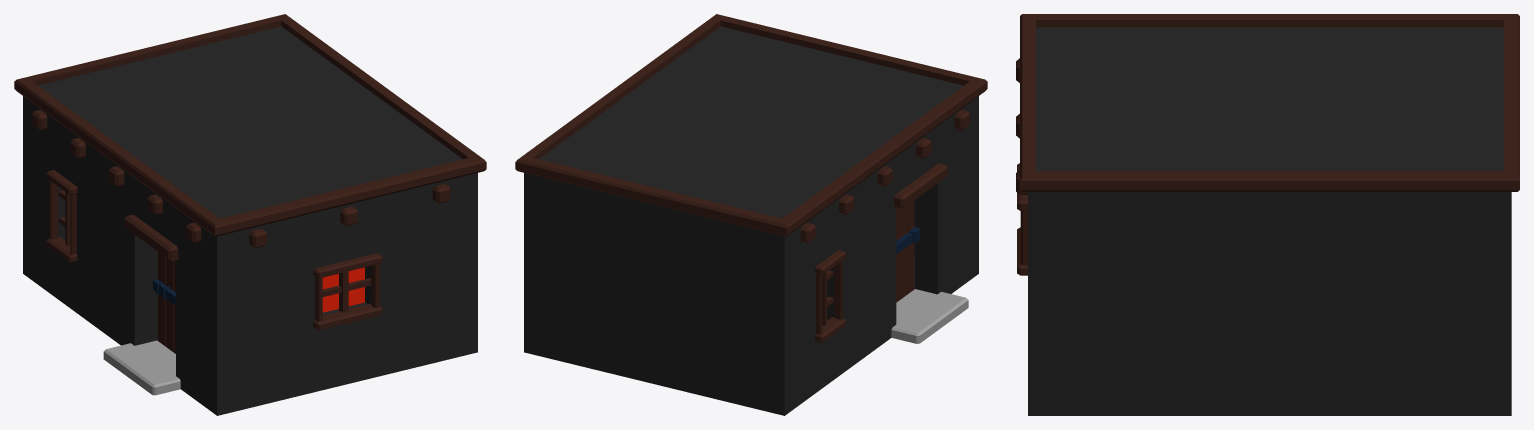
File: civilian_house_39_e.FBX
3 renders of one model, left to right at view 1: azimuth 30°, elevation 25°; view 2: azimuth 150°, elevation 25°; view 3: azimuth 270°, elevation 25°, orthographic. The views are drawn at different scales.
Visible parts, largest first — view 1: civilian_house_39_e; view 2: civilian_house_39_e; view 3: civilian_house_39_e.
Part boxes in pixels (<box>): civilian_house_39_e: <box>14,14,486,415</box>; civilian_house_39_e: <box>515,14,987,415</box>; civilian_house_39_e: <box>1016,14,1519,415</box>.
Size of the model in its own units: 523 by 330 by 625.
